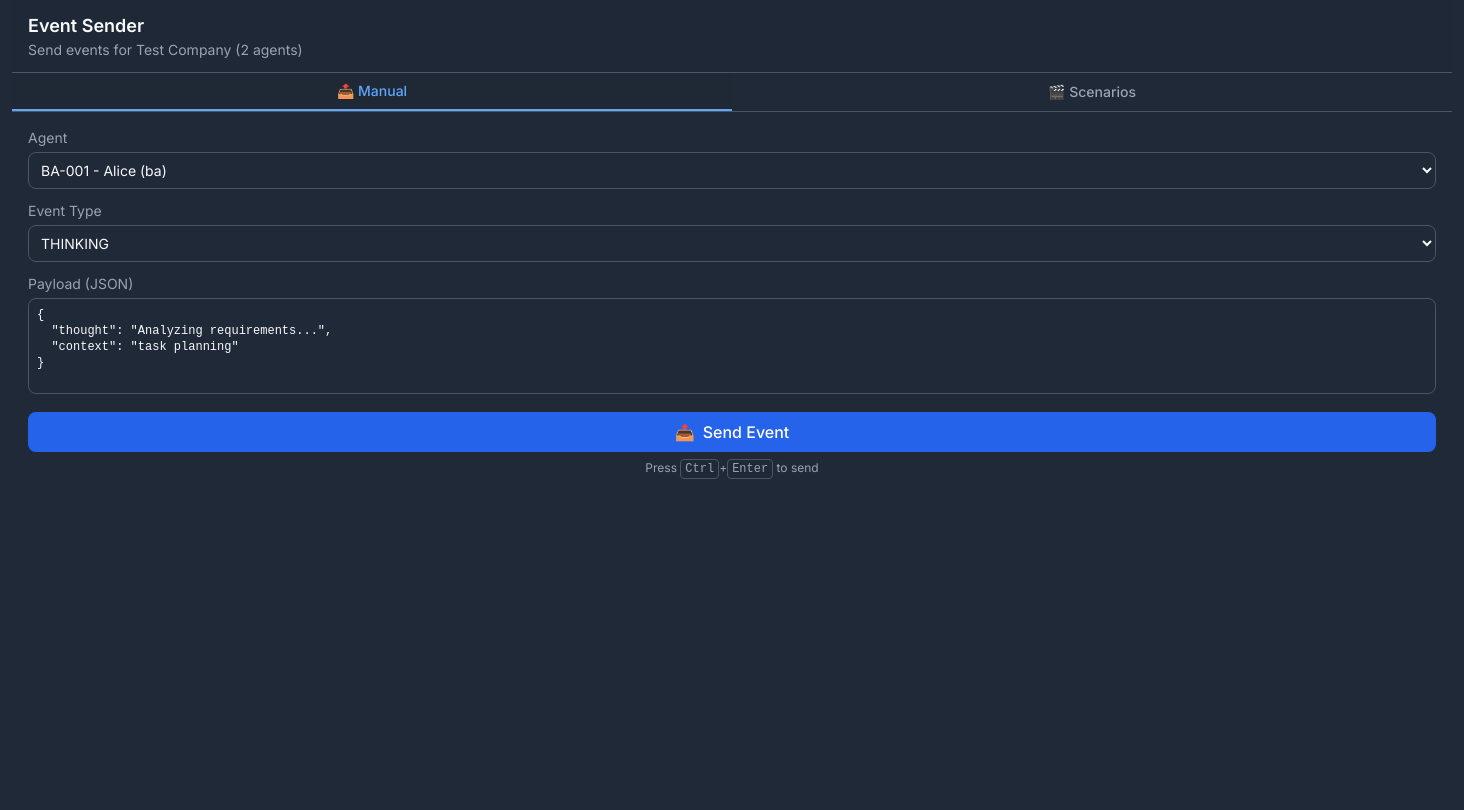
Test: EventSender › AC3: Communication events show To Agent › shows To Agent dropdown for MESSAGE_SEND event
Select "MESSAGE SEND" in the dropdown below "Event Type": (732, 244) [28,225,1436,262]
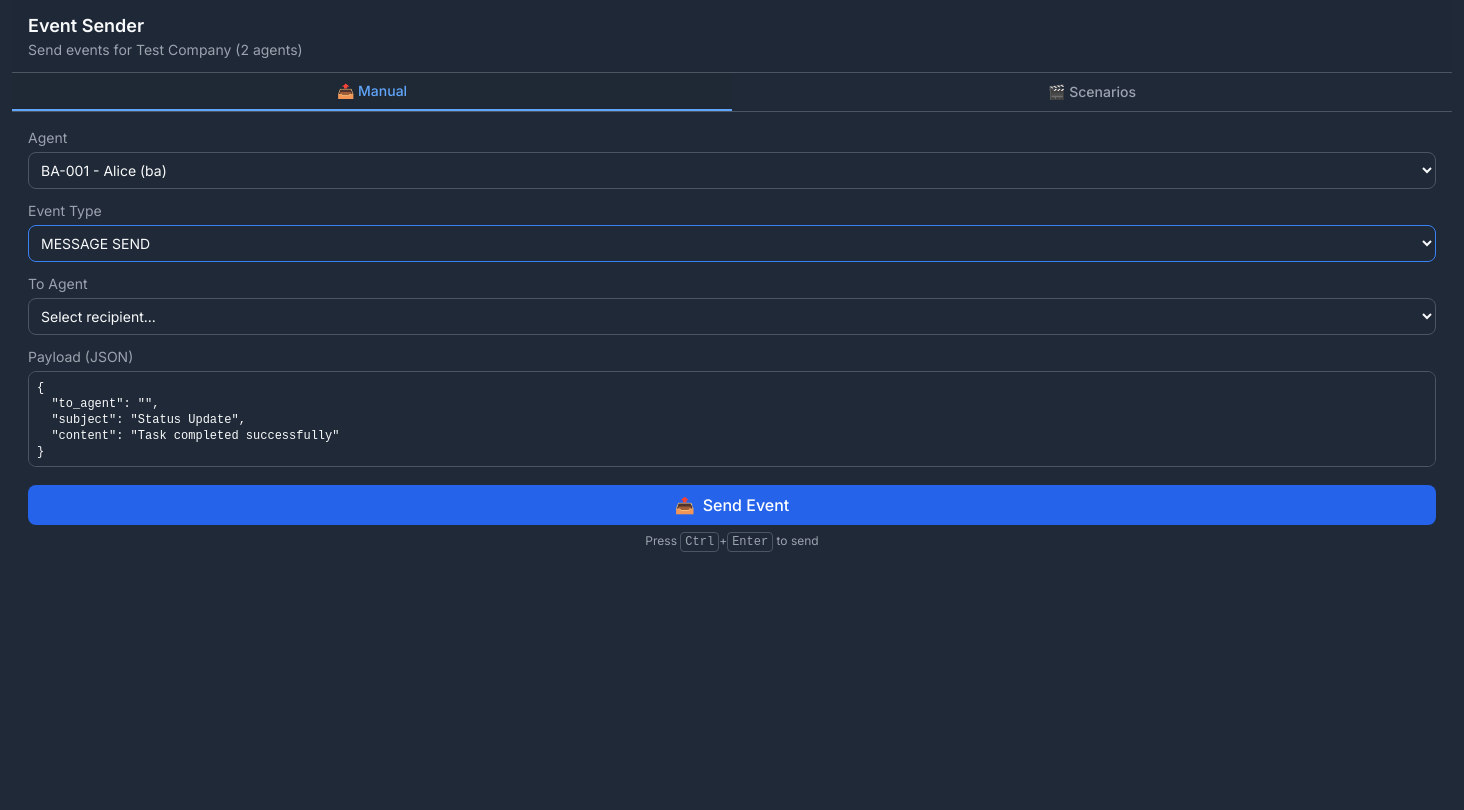
Expected: the text "To Agent" is shown, [28,275,88,292]
Expected: the number of dropdowns is 3, [28,152,1436,189]; [28,225,1436,262]; [28,298,1436,335]
